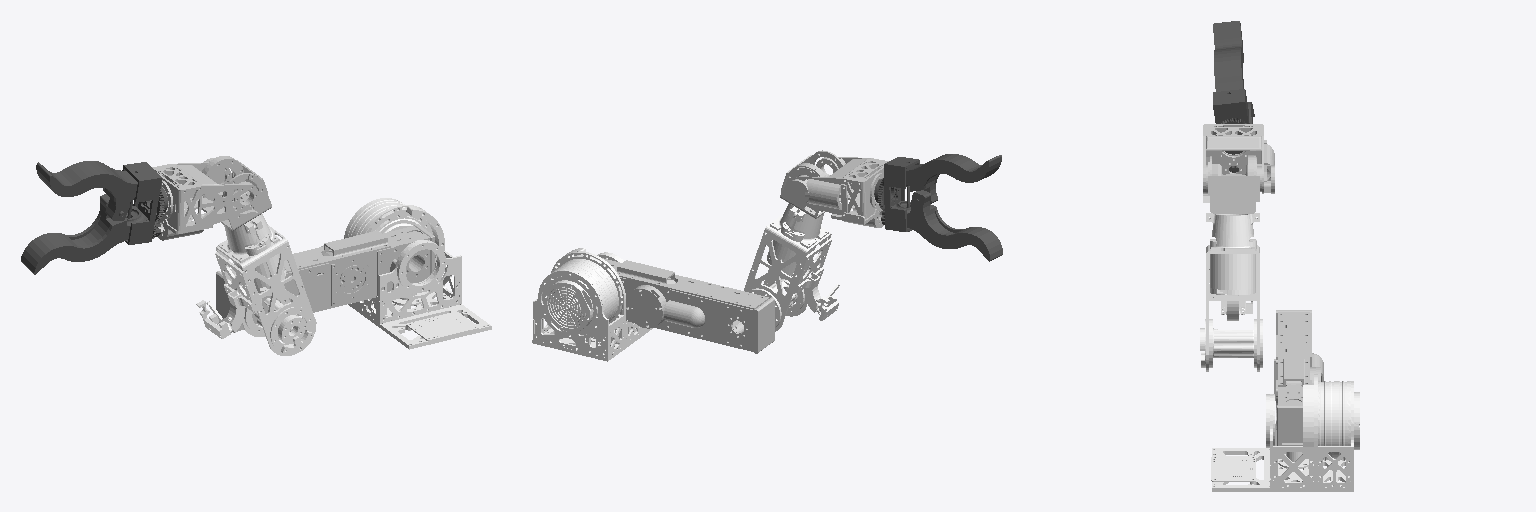
URDF robot description (manipulator):
<?xml version="1.0" encoding="utf-8"?>
<!-- This URDF was automatically created by SolidWorks to URDF Exporter! Originally created by Stephen Brawner (brawner@gmail.com) 
     Commit Version: 1.6.0-4-g7f85cfe  Build Version: 1.6.7995.38578
     For more information, please see http://wiki.ros.org/sw_urdf_exporter -->
<robot
  name="manipulator">
  <link
    name="base_link">
    <inertial>
      <origin
        xyz="0 -3.46944695195361E-18 0.020756318329721"
        rpy="0 0 0" />
      <mass
        value="0.0136482597260318" />
      <inertia
        ixx="1.65577962638559E-06"
        ixy="3.6292006538487E-22"
        ixz="-1.18733793538444E-22"
        iyy="1.65577962638559E-06"
        iyz="3.62112589680658E-23"
        izz="1.42772694913283E-06" />
    </inertial>
    <visual>
      <origin
        xyz="0 0 0"
        rpy="0 0 0" />
      <geometry>
        <mesh
          filename="package://manipulator/meshes/base_link.STL" />
      </geometry>
      <material
        name="">
        <color
          rgba="1 1 1 1" />
      </material>
    </visual>
    <collision>
      <origin
        xyz="0 0 0"
        rpy="0 0 0" />
      <geometry>
        <mesh
          filename="package://manipulator/meshes/base_link.STL" />
      </geometry>
    </collision>
  </link>
  <link
    name="1_Link">
    <inertial>
      <origin
        xyz="-0.000267365137948325 0.0322213217045028 0.052363401771148"
        rpy="0 0 0" />
      <mass
        value="0.572142027172773" />
      <inertia
        ixx="0.000559506390730263"
        ixy="3.18632749798054E-07"
        ixz="2.99922016851784E-06"
        iyy="0.000713508475732934"
        iyz="-1.13207704262002E-06"
        izz="0.000632369183236846" />
    </inertial>
    <visual>
      <origin
        xyz="0 0 0"
        rpy="0 0 0" />
      <geometry>
        <mesh
          filename="package://manipulator/meshes/1_Link.STL" />
      </geometry>
      <material
        name="">
        <color
          rgba="1 1 1 1" />
      </material>
    </visual>
    <collision>
      <origin
        xyz="0 0 0"
        rpy="0 0 0" />
      <geometry>
        <mesh
          filename="package://manipulator/meshes/1_Link.STL" />
      </geometry>
    </collision>
  </link>
  <joint
    name="1-joint"
    type="revolute">
    <origin
      xyz="0 0 0.0025"
      rpy="0 0 0" />
    <parent
      link="base_link" />
    <child
      link="1_Link" />
    <axis
      xyz="0 0 1" />
    <limit
    lower="-3.1365"
    upper="3.1328"
    effort="27"
    velocity="2.5" />
  </joint>
  <link
    name="2_Link">
    <inertial>
      <origin
        xyz="-0.0867008161599005 0.0248315280391652 0.000307776779842561"
        rpy="0 0 0" />
      <mass
        value="0.645668930110417" />
      <inertia
        ixx="0.000307542056564557"
        ixy="-5.26312203306795E-07"
        ixz="-4.26877816035754E-07"
        iyy="0.00169171936404808"
        iyz="-1.44486699177229E-07"
        izz="0.00158648718648665" />
    </inertial>
    <visual>
      <origin
        xyz="0 0 0"
        rpy="0 0 0" />
      <geometry>
        <mesh
          filename="package://manipulator/meshes/2_Link.STL" />
      </geometry>
      <material
        name="">
        <color
          rgba="0.850980392156863 0.850980392156863 0.850980392156863 1" />
      </material>
    </visual>
    <collision>
      <origin
        xyz="0 0 0"
        rpy="0 0 0" />
      <geometry>
        <mesh
          filename="package://manipulator/meshes/2_Link.STL" />
      </geometry>
    </collision>
  </link>
  <joint
    name="2-joint"
    type="fixed">
    <origin
      xyz="0 -0.02455 0.0665000000000001"
      rpy="0 0 0" />
    <parent
      link="1_Link" />
    <child
      link="2_Link" />
  </joint>
  <link
    name="3_Link">
    <inertial>
      <origin
        xyz="0.0518193953956891 0.0307794526729386 -0.000573435076948126"
        rpy="0 0 0" />
      <mass
        value="0.56534838958726" />
      <inertia
        ixx="0.000359363572006992"
        ixy="-2.39573323741015E-06"
        ixz="1.40052921349166E-05"
        iyy="0.000691885924365659"
        iyz="7.93999090679245E-07"
        izz="0.000798121896584267" />
    </inertial>
    <visual>
      <origin
        xyz="0 0 0"
        rpy="0 0 0" />
      <geometry>
        <mesh
          filename="package://manipulator/meshes/3_Link.STL" />
      </geometry>
      <material
        name="">
        <color
          rgba="1 1 1 1" />
      </material>
    </visual>
    <collision>
      <origin
        xyz="0 0 0"
        rpy="0 0 0" />
      <geometry>
        <mesh
          filename="package://manipulator/meshes/3_Link.STL" />
      </geometry>
    </collision>
  </link>
  <joint
    name="3-joint"
    type="revolute">
    <origin
      xyz="-0.226380000000001 -0.0835500000000032 0"
      rpy="0 0 0" />
    <parent
      link="2_Link" />
    <child
      link="3_Link" />
    <axis
      xyz="0 -1 0" />
    <limit
      lower="0.7274"
      upper="3.0774"
      effort="27"
      velocity="1.5" />
  </joint>
  <link
    name="4_Link">
    <inertial>
      <origin
        xyz="0.0232312139104758 0.00491771202401214 0.00289567123824075"
        rpy="0 0 0" />
      <mass
        value="0.153929257708957" />
      <inertia
        ixx="7.96382155520153E-05"
        ixy="-1.40226091859026E-06"
        ixz="-1.34662751942027E-06"
        iyy="7.53208838302305E-05"
        iyz="7.08779596545809E-07"
        izz="9.63802780992277E-05" />
    </inertial>
    <visual>
      <origin
        xyz="0 0 0"
        rpy="0 0 0" />
      <geometry>
        <mesh
          filename="package://manipulator/meshes/4_Link.STL" />
      </geometry>
      <material
        name="">
        <color
          rgba="0.850980392156863 0.850980392156863 0.850980392156863 1" />
      </material>
    </visual>
    <collision>
      <origin
        xyz="0 0 0"
        rpy="0 0 0" />
      <geometry>
        <mesh
          filename="package://manipulator/meshes/4_Link.STL" />
      </geometry>
    </collision>
  </link>
  <joint
    name="4-joint"
    type="revolute">
    <origin
      xyz="0.167395812911923 0.0315000000000018 -0.00118398460991795"
      rpy="0 0 0" />
    <parent
      link="3_Link" />
    <child
      link="4_Link" />
    <axis
      xyz="-0.999974987526421 0 0.00707278739496964" />
    <limit
      lower="-3.0" 
      upper="3.08"
      effort="7"
      velocity="1.5" />
  </joint>
  <link
    name="5_Link">
    <inertial>
      <origin
        xyz="0.0521273881552066 0.039941759032185 -0.0197847588038614"
        rpy="0 0 0" />
      <mass
        value="0.254987959093994" />
      <inertia
        ixx="0.00019672731079621"
        ixy="-3.19285554548973E-07"
        ixz="3.77662689788796E-05"
        iyy="0.00018192422437189"
        iyz="1.03823397751912E-06"
        izz="0.000285168642114714" />
    </inertial>
    <visual>
      <origin
        xyz="0 0 0"
        rpy="0 0 0" />
      <geometry>
        <mesh
          filename="package://manipulator/meshes/5_Link.STL" />
      </geometry>
      <material
        name="">
        <color
          rgba="0.850980392156863 0.850980392156863 0.850980392156863 1" />
      </material>
    </visual>
    <collision>
      <origin
        xyz="0 0 0"
        rpy="0 0 0" />
      <geometry>
        <mesh
          filename="package://manipulator/meshes/5_Link.STL" />
      </geometry>
    </collision>
  </link>
  <joint
    name="5-joint"
    type="revolute">
    <origin
      xyz="0.0359990995509461 -0.0300000000000021 -0.000254620346217899"
      rpy="0 0 0" />
    <parent
      link="4_Link" />
    <child
      link="5_Link" />
    <axis
      xyz="0 -1 0" />
    <limit
      lower="0.800405" 
      upper="2.4"
      effort="7"
      velocity="1.5" />
  </joint>
  <link
    name="6Link">
    <inertial>
      <origin
        xyz="0.0172084069593025 -0.00502315236768684 0.00969973997445769"
        rpy="0 0 0" />
      <mass
        value="0.0433474772069015" />
      <inertia
        ixx="2.22639895119428E-05"
        ixy="-9.06568613473403E-07"
        ixz="-3.30357711272234E-06"
        iyy="9.46379686009132E-06"
        iyz="-2.09246225467455E-06"
        izz="1.60702517233558E-05" />
    </inertial>
    <visual>
      <origin
        xyz="0 0 0"
        rpy="0 0 0" />
      <geometry>
        <mesh
          filename="package://manipulator/meshes/6Link.STL" />
      </geometry>
      <material
        name="">
        <color
          rgba="0.411764705882353 0.411764705882353 0.411764705882353 1" />
      </material>
    </visual>
    <collision>
      <origin
        xyz="0 0 0"
        rpy="0 0 0" />
      <geometry>
        <mesh
          filename="package://manipulator/meshes/6Link.STL" />
      </geometry>
    </collision>
  </link>
  <joint
    name="6-joint"
    type="continuous">
    <origin
      xyz="0.0943519303016779 0.0310000000000022 -0.0413143225570544"
      rpy="0 0 0" />
    <parent
      link="5_Link" />
    <child
      link="6Link" />
    <axis
      xyz="-0.917582028180844 0 0.397546502386234" />
  </joint>
</robot>

--- Render facts (derived) ---
The picture shows the robot from 3 angles, left to right: view 1: azimuth 30°, elevation 25°; view 2: azimuth 150°, elevation 25°; view 3: azimuth 270°, elevation 25°; orthographic projection.
Model manipulator with 7 links and 6 joints (4 revolute, 1 continuous, 1 fixed), rooted at base_link, posed all joints at 0 but 2 set to mid-range because 0 is outside their limits (3-joint = 1.9, 5-joint = 1.6).
Links seen in each view (by area): view 1: 1_Link, 3_Link, 6Link, 2_Link, 5_Link, 4_Link; view 2: 2_Link, 1_Link, 6Link, 3_Link, 5_Link, 4_Link; view 3: 1_Link, 3_Link, 2_Link, 5_Link, 6Link, 4_Link.
Link boxes in pixels (x1=…): 1_Link: x1=344, y1=198, x2=491, y2=349; 3_Link: x1=196, y1=214, x2=316, y2=355; 6Link: x1=21, y1=161, x2=167, y2=274; 2_Link: x1=216, y1=224, x2=434, y2=331; 5_Link: x1=152, y1=158, x2=258, y2=240; 4_Link: x1=202, y1=156, x2=271, y2=230; 2_Link: x1=593, y1=257, x2=774, y2=353; 1_Link: x1=532, y1=248, x2=652, y2=361; 6Link: x1=874, y1=154, x2=1002, y2=261; 3_Link: x1=744, y1=203, x2=839, y2=331; 5_Link: x1=786, y1=157, x2=888, y2=227; 4_Link: x1=780, y1=150, x2=845, y2=218; 1_Link: x1=1211, y1=374, x2=1359, y2=491; 3_Link: x1=1200, y1=213, x2=1262, y2=371; 2_Link: x1=1274, y1=310, x2=1323, y2=445; 5_Link: x1=1203, y1=124, x2=1274, y2=193; 6Link: x1=1213, y1=21, x2=1254, y2=172; 4_Link: x1=1203, y1=155, x2=1259, y2=213.
Bounding box of the posed robot: 0.6298 × 0.1977 × 0.3534 m (x, y, z).
Meshes: 7 distinct files referenced, 7 mesh visuals loaded (7 binary STL).
